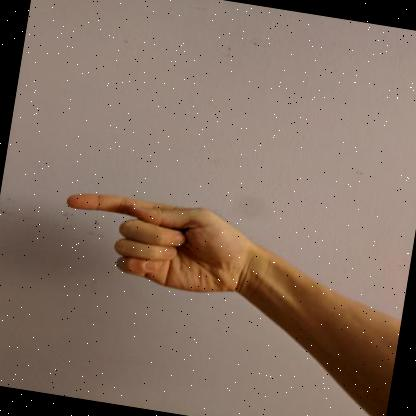G: (66, 193, 251, 296)
